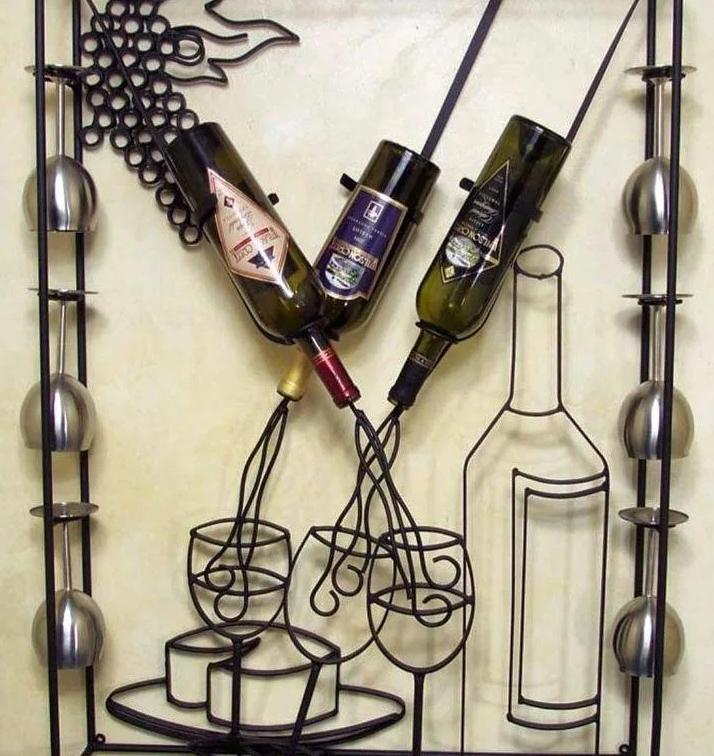wine bottle: (161, 120, 359, 409), (383, 114, 574, 410), (276, 138, 444, 402)
wine label: (315, 181, 409, 303), (205, 163, 292, 287), (438, 156, 510, 286)
